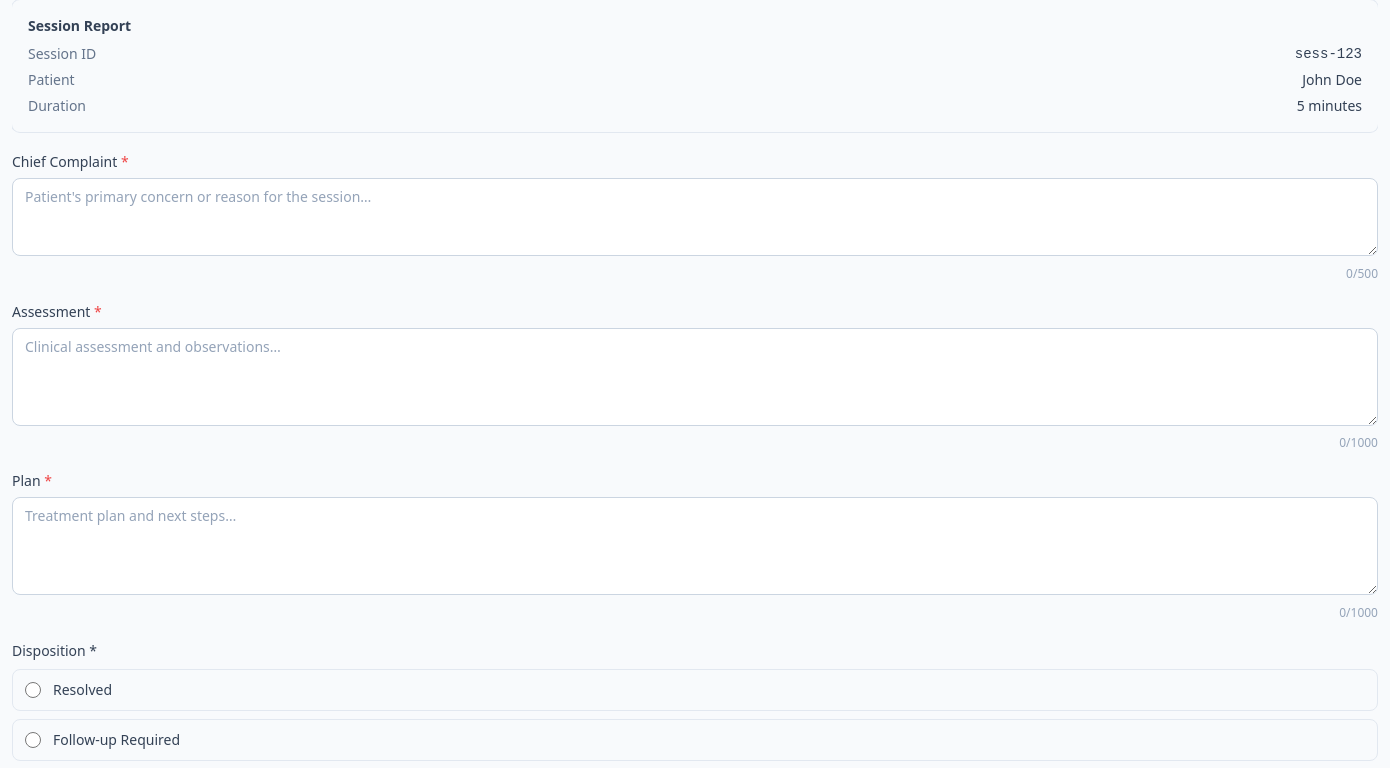
it: ReportForm › updates character counters when typing
Step 1. Type "Test complaint" into the text box labelled "Chief Complaint *" → (695, 217), box [12, 178, 1378, 256]
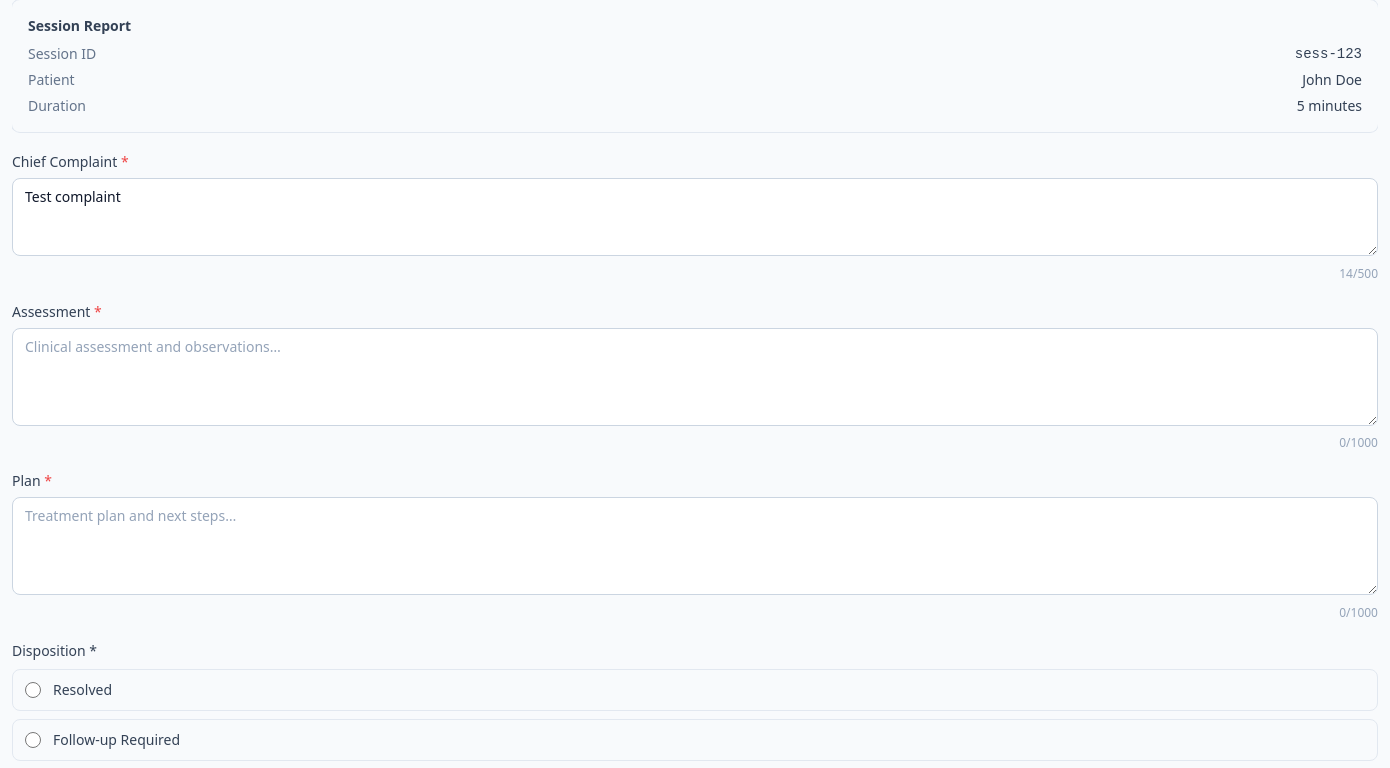
Expected: the text "14/500" is shown, [1339, 266, 1378, 282]
